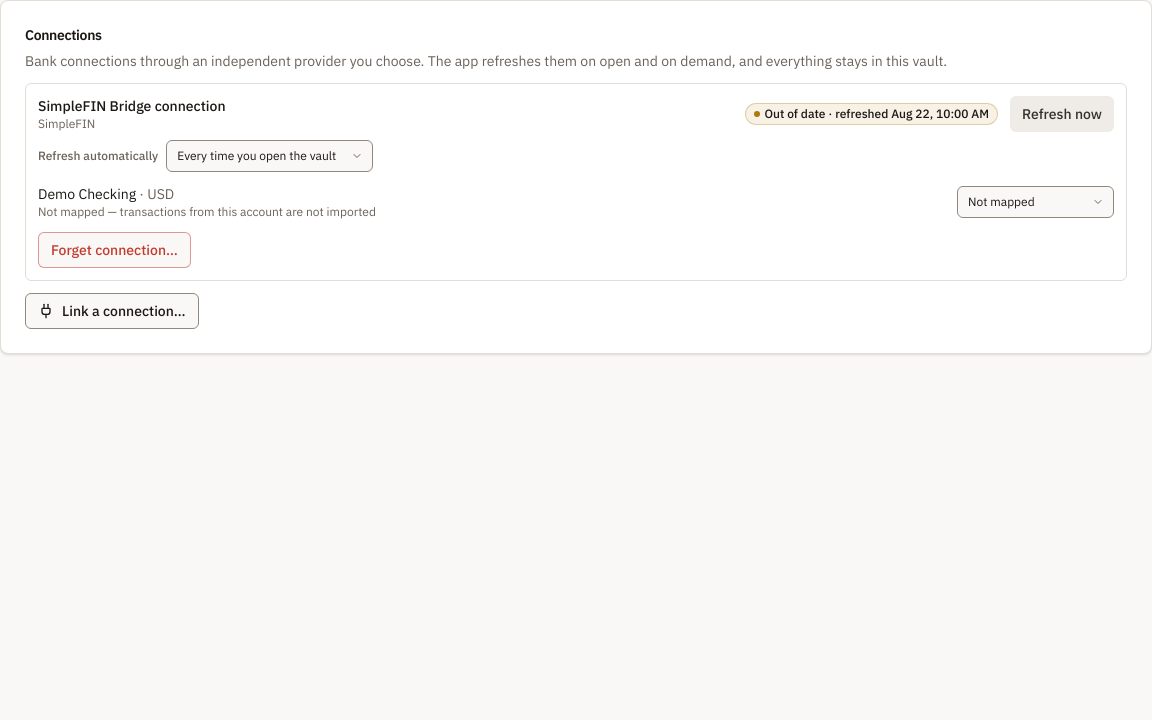
Test: ConnectionsCard › warns before a second connection feeds an account, naming the existing link
Select "Checking" in the dropdown named "Account for Demo Checking": (1036,202) [957, 186, 1114, 218]
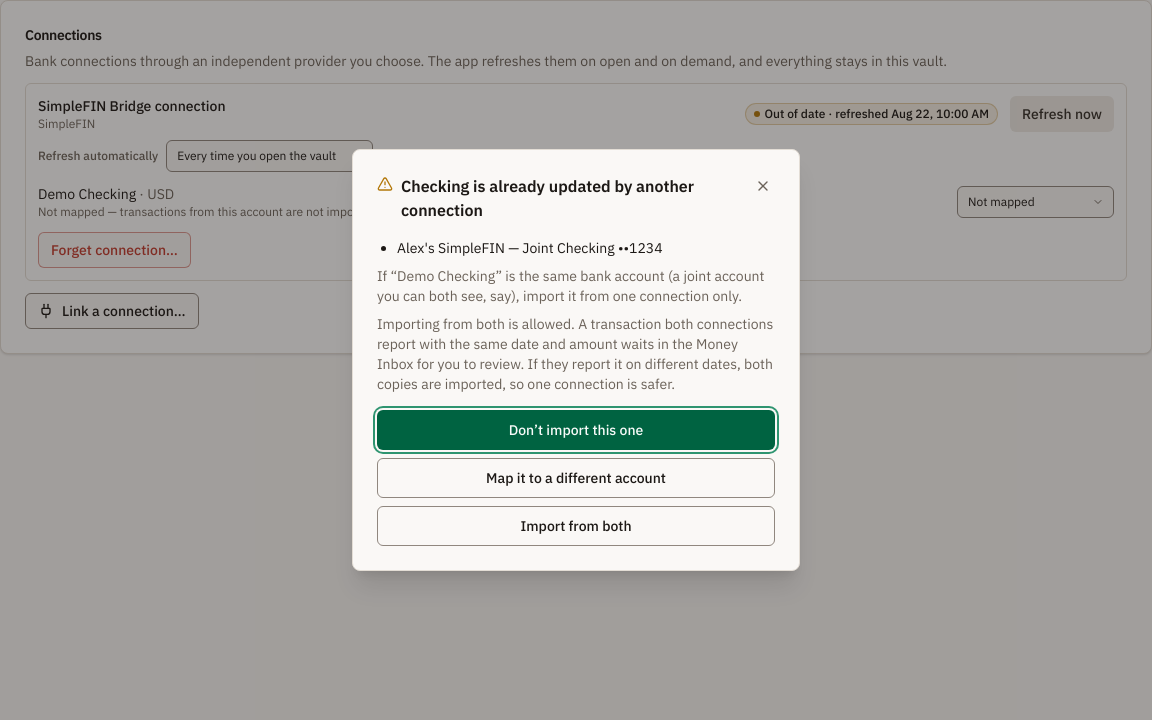
Result: the dialog shows "Checking is already updated by another connection" at [352, 149, 800, 571]
Result: the list named "Already updating this account" reads "Alex's SimpleFIN — Joint Checking ••1234" at [397, 239, 663, 257]
Result: the dialog shows "Demo Checking" at [397, 267, 495, 285]
